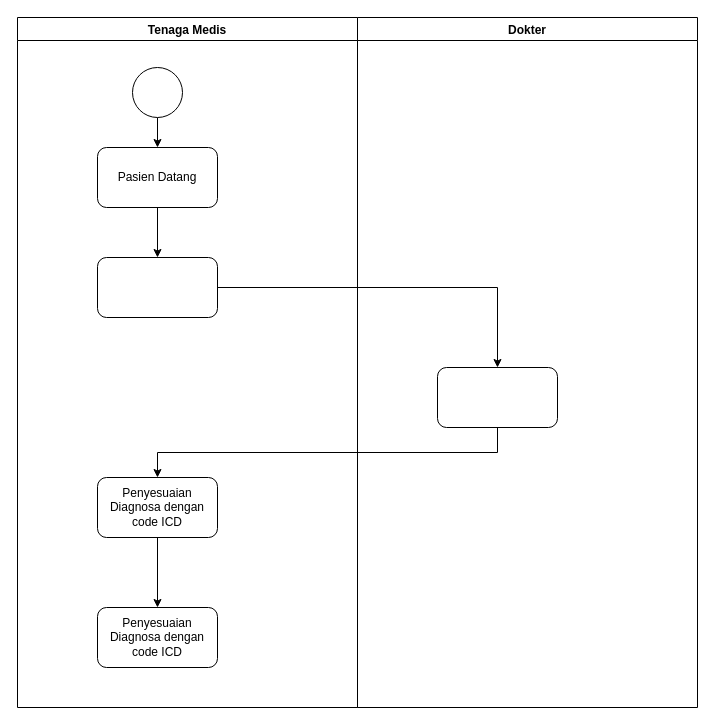
Image size: 715x725. Some labels were removed from this diagram. The centre of each missing label's shape, as x and y in pixels:
Input Data Pribadi Pasien: pixel 157 287
Tenaga Medis Diagnosa Penyakit: pixel 497 397
